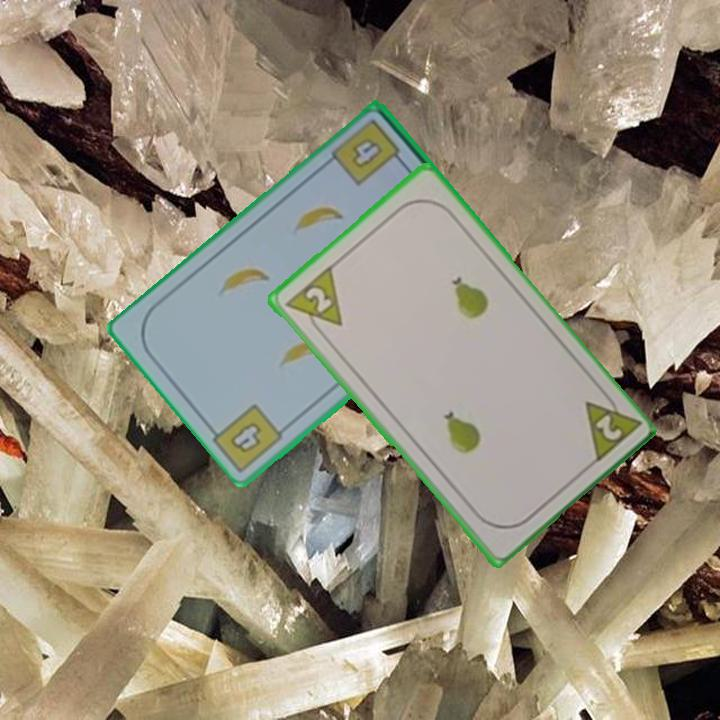2p: (281, 263, 345, 342), (580, 386, 642, 467)
4b: (331, 115, 409, 189), (226, 418, 265, 457)
